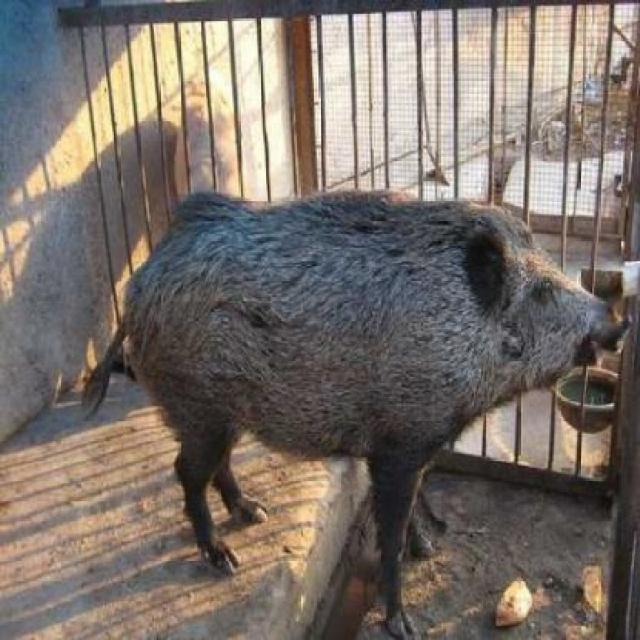pig: (106, 146, 639, 592)
